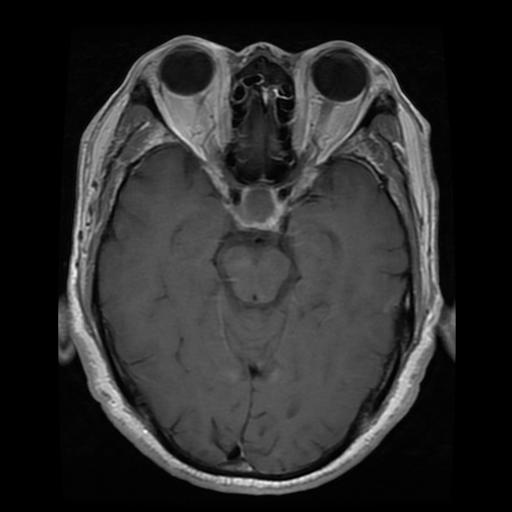Pituirity_tumour: (234, 185, 283, 229)
